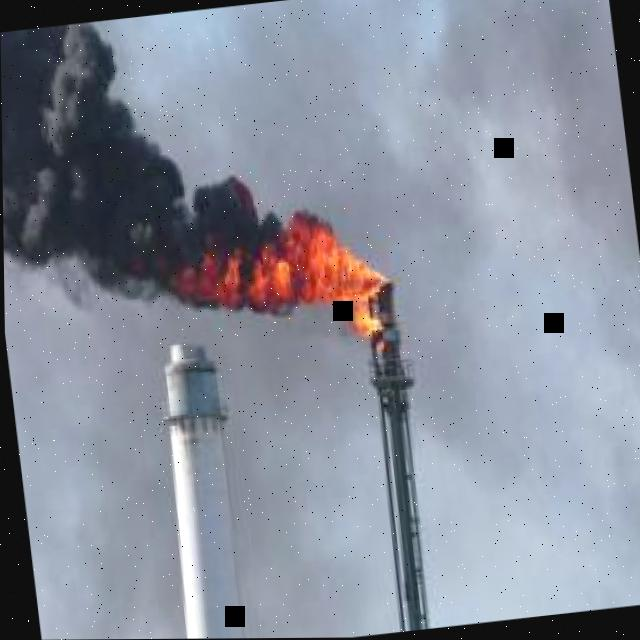fire: (170, 207, 386, 311), (343, 299, 382, 349)
smoke: (100, 0, 523, 485), (3, 259, 380, 640), (0, 23, 293, 317), (393, 0, 638, 266)
